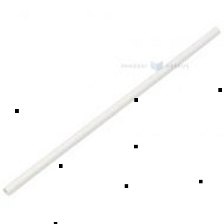drinking_straw: (0, 21, 223, 201)
